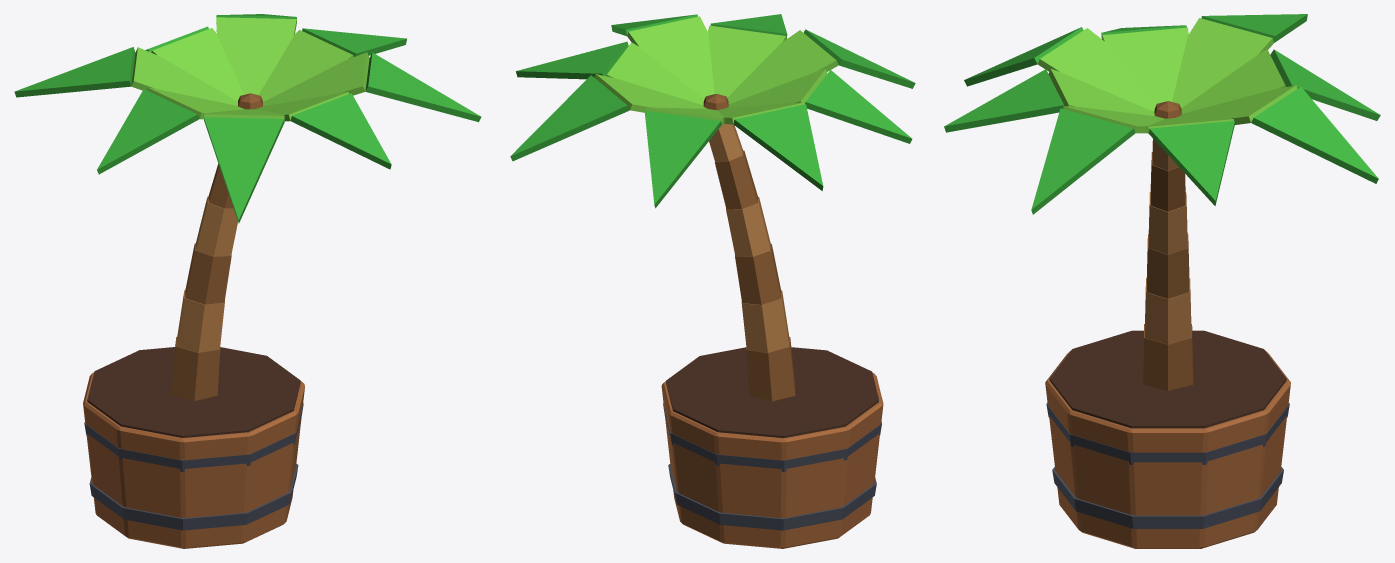
The model's file is potted-palm-1x1.glb.
The picture shows the model from 3 angles, left to right: view 1: azimuth 30°, elevation 25°; view 2: azimuth 150°, elevation 25°; view 3: azimuth 270°, elevation 25°; orthographic projection. The views are drawn at different scales.
Visible parts, largest first — view 1: potted-palm-1x1; view 2: potted-palm-1x1; view 3: potted-palm-1x1.
Boxes of the visible parts, bbox=[...] form: potted-palm-1x1: bbox=[14, 14, 481, 548]; potted-palm-1x1: bbox=[510, 14, 915, 548]; potted-palm-1x1: bbox=[944, 14, 1380, 548].
Bounding box in the file's own units: 0.9 × 1.04 × 0.8864.
1 material, 1 textured.
